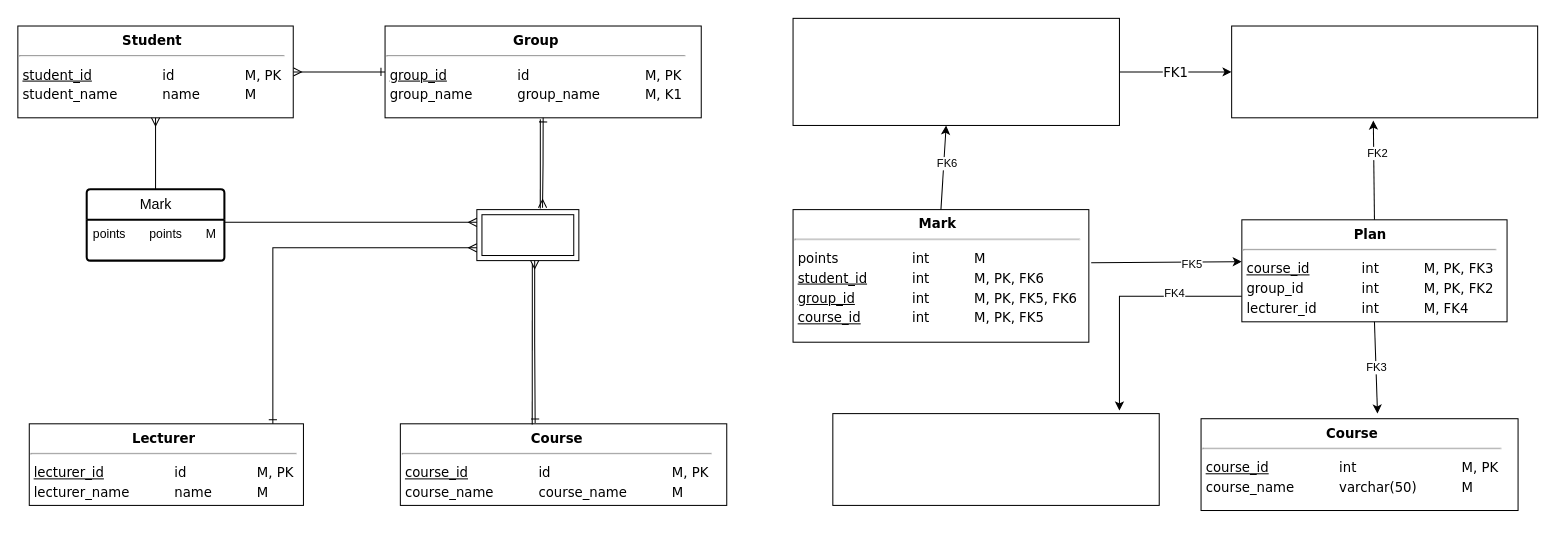
The diagram is 1556 pixels wide and 541 high, and some of its shapes have lost their labels. The centre of each missing label's shape, as x and y in pixels:
"Group group_id int M, PK group_name varchar(6) M, K1" belongs at point (1384, 71).
"Lecturer lecturer_id int M, PK lecturer_name varchar(50) M" belongs at point (995, 459).
"Plan" belongs at point (527, 235).
"Student student_id int M, PK student_name varchar(50) M group_id int M, FK1" belongs at point (955, 71).
